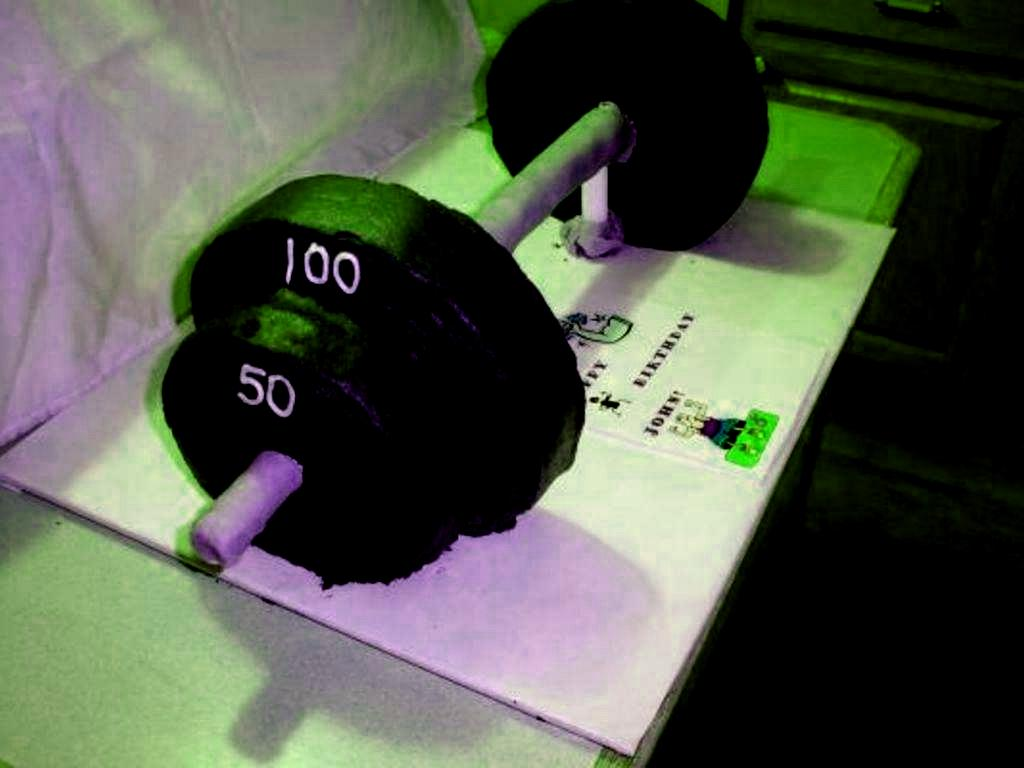Barbell: (177, 509, 243, 587)
